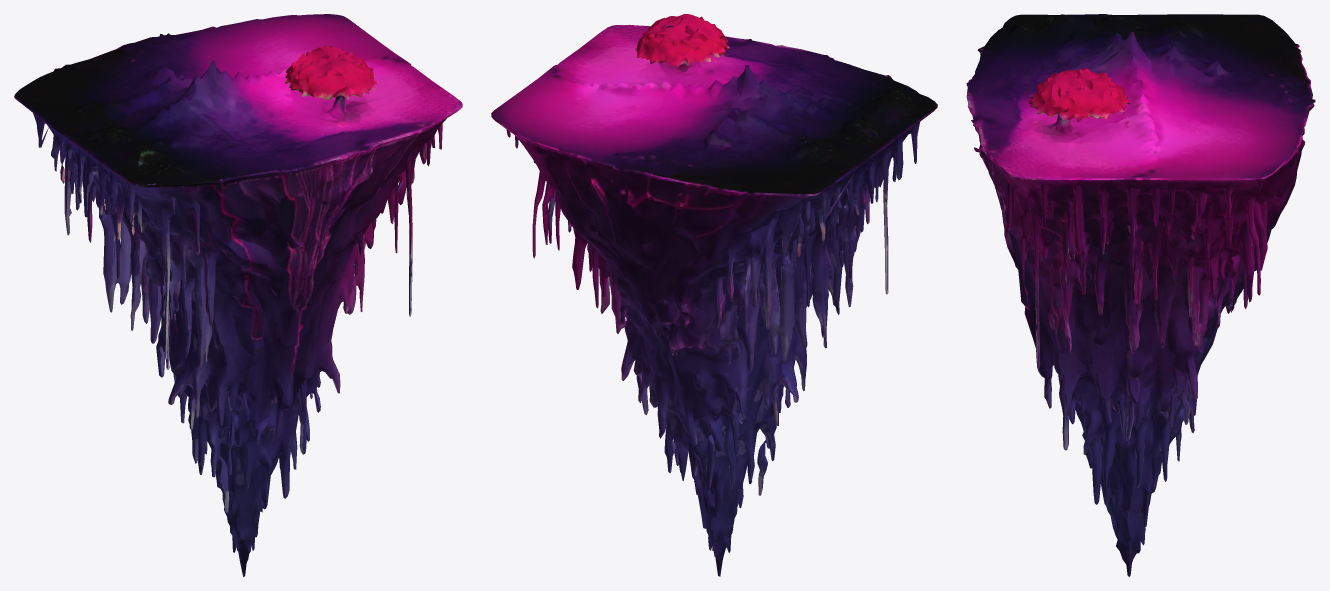
The model's file is sea-root-nw-generated-2026-05-17T19-43-51-539Z.medium.glb.
3 renders of one model, left to right at view 1: azimuth 30°, elevation 25°; view 2: azimuth 150°, elevation 25°; view 3: azimuth 270°, elevation 25°, orthographic. The views are drawn at different scales.
Visible parts, largest first — view 1: temp_mesh.ply; view 2: temp_mesh.ply; view 3: temp_mesh.ply.
Boxes of the visible parts, x1=… form: temp_mesh.ply: x1=14, y1=14, x2=462, y2=576; temp_mesh.ply: x1=491, y1=14, x2=937, y2=576; temp_mesh.ply: x1=966, y1=14, x2=1315, y2=576.
Bounding box in the file's own units: 1.31 × 1.97 × 1.17.
Materials: 1 (1 with a texture image).
